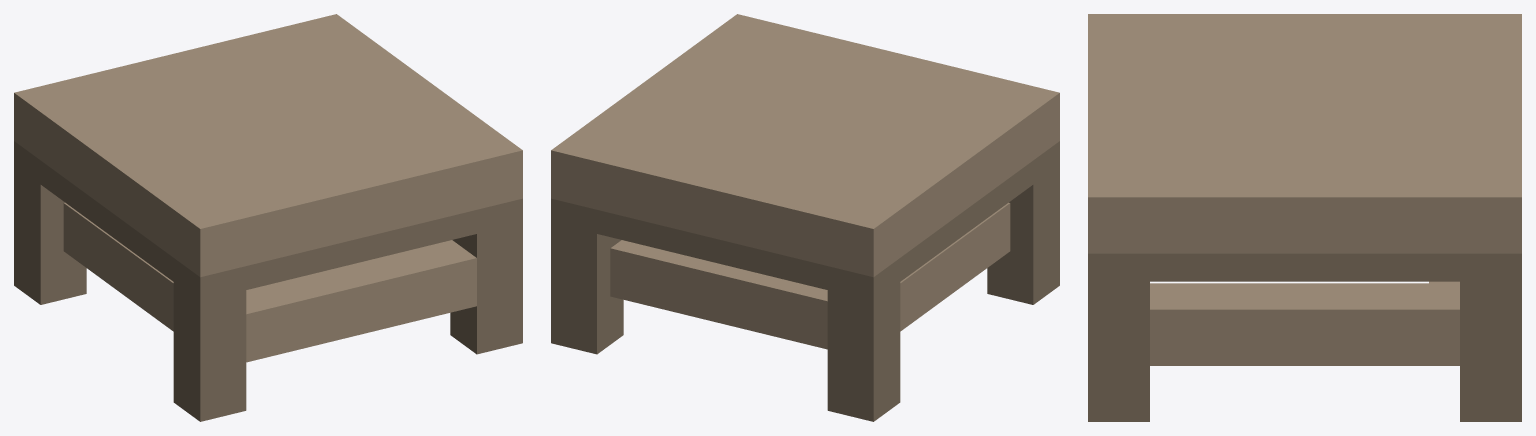
Rendered from taburete_apuestas_01.glb.
3 views of the same model, side by side, from view 1: azimuth 30°, elevation 25°; view 2: azimuth 150°, elevation 25°; view 3: azimuth 270°, elevation 25° (orthographic). The views are drawn at different scales.
Parts seen in each view (by area): view 1: taburete_apuestas; view 2: taburete_apuestas; view 3: taburete_apuestas.
Part boxes in pixels (x1=…): taburete_apuestas: x1=14, y1=14, x2=522, y2=421; taburete_apuestas: x1=551, y1=14, x2=1059, y2=421; taburete_apuestas: x1=1088, y1=14, x2=1521, y2=421.
Bounding box in the file's own units: 1 × 0.5714 × 1.
